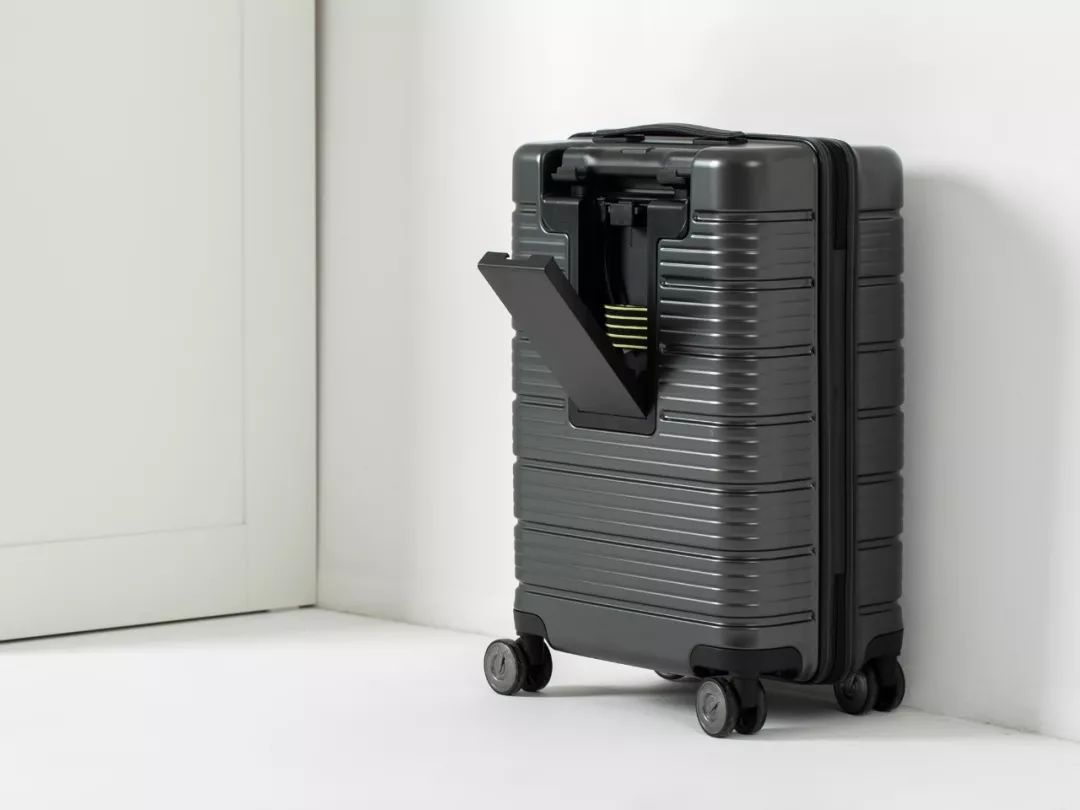box: (512, 143, 904, 686)
handle: (593, 123, 749, 145)
wheel: (695, 674, 768, 738), (482, 636, 553, 696), (833, 659, 906, 716)
